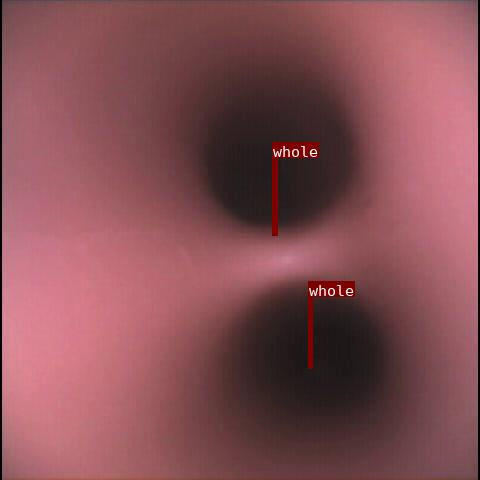whole: (272, 158, 277, 235), (308, 297, 312, 368)
